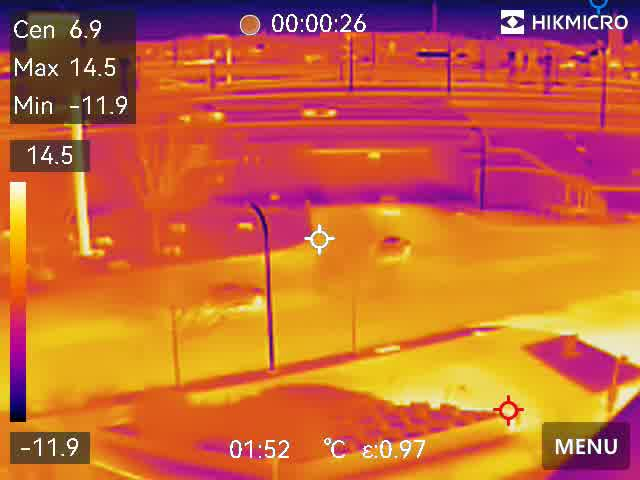vehicle: (205, 279, 271, 309), (376, 234, 415, 268), (175, 108, 232, 126), (298, 102, 340, 123), (373, 191, 402, 220), (359, 148, 385, 162)
